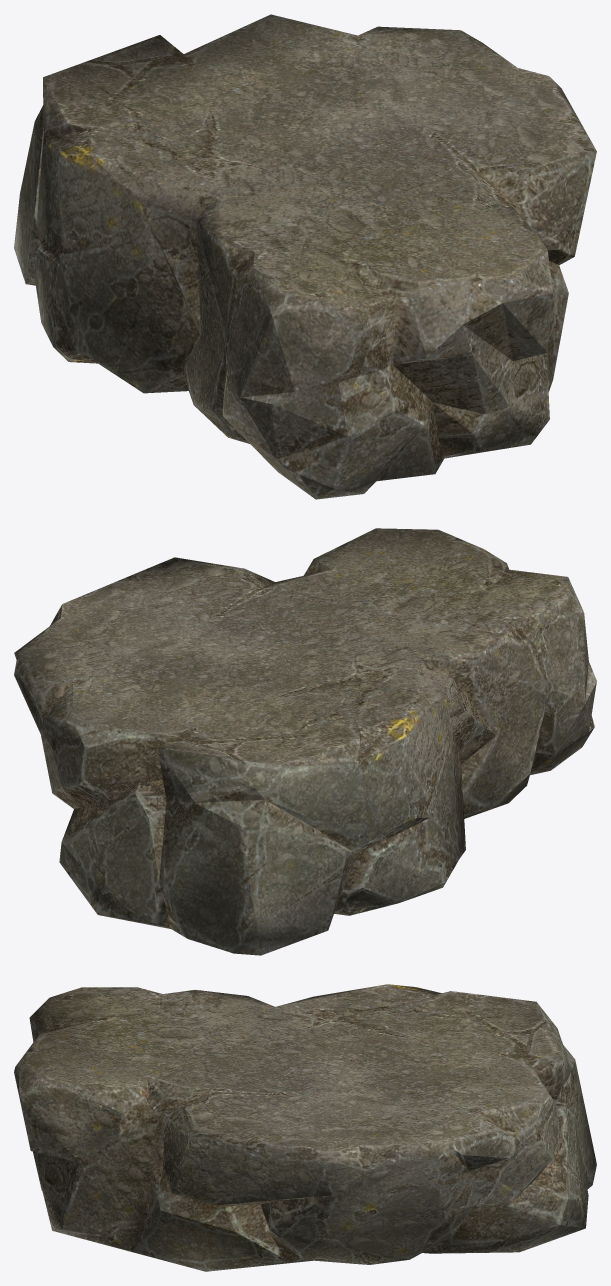
File: bg_lut_lutomb_rock01_sm_old.FBX
3 views of the same model, one above another, from view 1: azimuth 30°, elevation 25°; view 2: azimuth 150°, elevation 25°; view 3: azimuth 270°, elevation 25° (orthographic). The views are drawn at different scales.
Parts seen in each view (by area): view 1: bg_lut_lutomb_rock01_sm_old; view 2: bg_lut_lutomb_rock01_sm_old; view 3: bg_lut_lutomb_rock01_sm_old.
Part boxes in pixels (<box>): bg_lut_lutomb_rock01_sm_old: <box>14,14,596,499</box>; bg_lut_lutomb_rock01_sm_old: <box>14,528,596,955</box>; bg_lut_lutomb_rock01_sm_old: <box>14,984,596,1271</box>.
Bounding box in the file's own units: 247 × 96.23 × 327.
